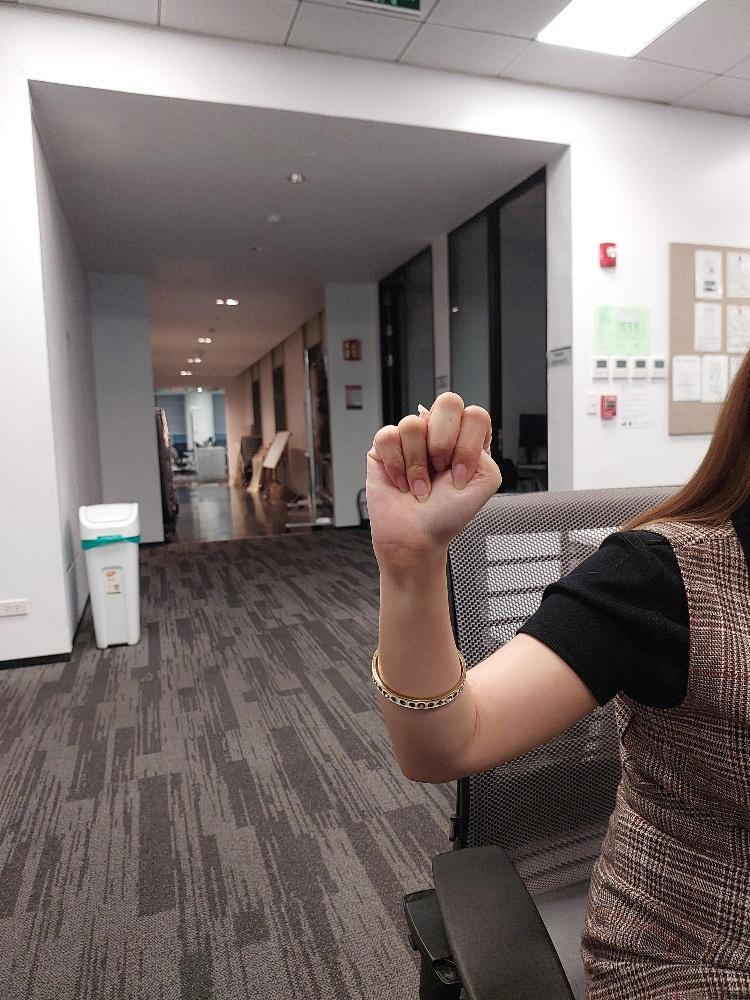n: (363, 388, 505, 561)
